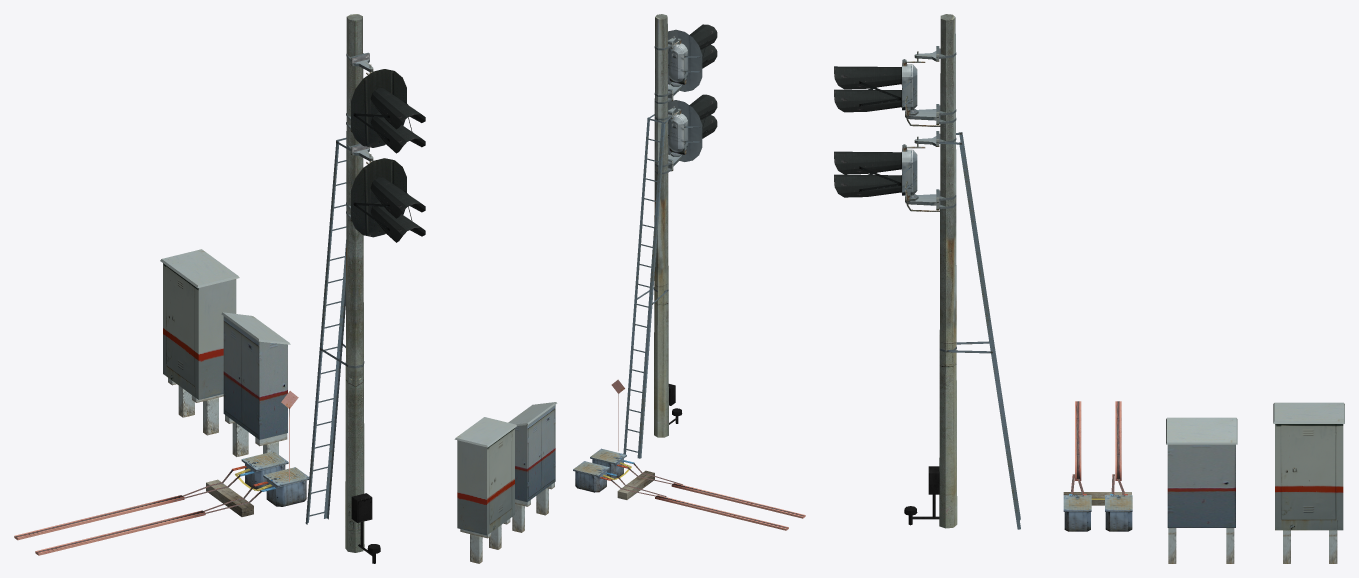
Rendered from signal_exit.gltf.
3 renders of one model, left to right at view 1: azimuth 30°, elevation 25°; view 2: azimuth 150°, elevation 25°; view 3: azimuth 270°, elevation 25°, orthographic. The views are drawn at different scales.
Size of the model in its own units: 4.6 by 7.97 by 6.98.
Materials: 1 (1 with a texture image).
